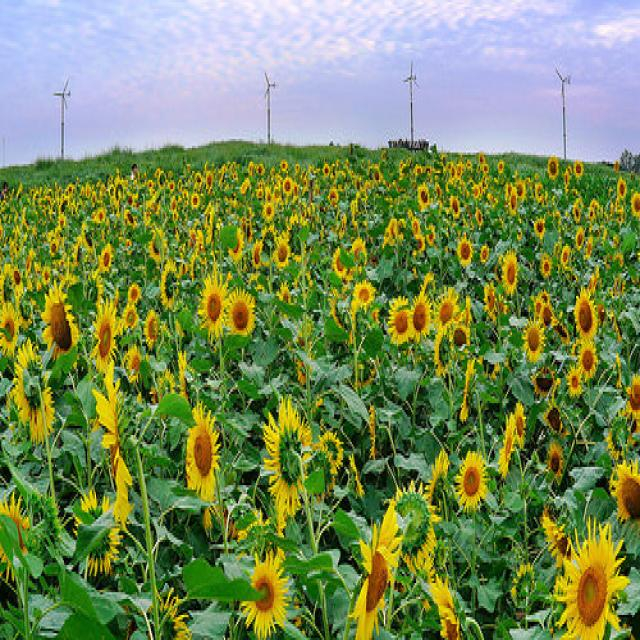sunflower: (553, 514, 631, 640), (345, 496, 403, 640), (260, 393, 310, 523), (384, 477, 443, 571), (36, 276, 84, 390), (12, 337, 57, 456), (75, 480, 127, 580), (238, 551, 298, 636), (182, 401, 222, 501), (0, 489, 33, 583), (193, 281, 237, 345), (85, 300, 119, 379), (224, 286, 260, 350), (610, 457, 640, 530), (454, 448, 489, 509), (494, 409, 521, 477), (571, 286, 598, 340), (409, 288, 432, 350), (621, 370, 640, 441), (530, 356, 558, 402), (159, 260, 181, 314), (0, 295, 19, 356), (522, 316, 546, 364), (139, 302, 162, 352), (388, 298, 410, 348), (435, 286, 460, 329), (499, 248, 521, 296), (350, 279, 381, 313), (507, 402, 532, 443), (145, 227, 170, 265), (122, 337, 144, 380), (451, 322, 473, 361), (269, 232, 293, 266), (578, 339, 596, 383), (6, 262, 27, 298), (329, 245, 347, 286), (349, 237, 368, 273), (611, 172, 631, 204), (547, 439, 561, 483), (227, 228, 245, 262), (96, 242, 115, 274), (538, 297, 556, 329), (568, 361, 583, 397), (484, 285, 498, 323), (81, 224, 96, 258), (457, 236, 472, 270), (250, 235, 264, 271), (121, 304, 139, 331), (532, 216, 550, 242), (415, 181, 430, 211), (112, 176, 126, 208), (275, 282, 292, 308), (45, 234, 60, 260), (127, 282, 143, 306), (123, 206, 139, 229), (424, 223, 437, 251), (411, 234, 427, 256), (570, 156, 584, 181), (630, 189, 640, 223), (448, 197, 462, 220), (263, 198, 276, 221), (73, 237, 83, 266), (508, 187, 518, 216), (281, 174, 292, 200), (575, 225, 585, 253), (156, 168, 168, 190), (474, 206, 485, 229), (540, 260, 554, 278), (203, 170, 214, 192), (58, 195, 70, 215), (326, 186, 338, 206), (514, 178, 524, 202), (372, 162, 382, 184), (190, 192, 202, 210), (479, 242, 488, 266), (240, 174, 250, 195), (548, 153, 555, 182), (432, 182, 442, 200), (97, 208, 107, 225), (496, 160, 506, 176), (279, 160, 291, 173), (455, 162, 463, 180), (256, 162, 266, 175), (167, 178, 175, 194), (169, 197, 178, 211), (323, 160, 330, 178), (474, 182, 481, 200), (481, 162, 491, 173), (172, 211, 179, 222), (294, 164, 301, 173)
